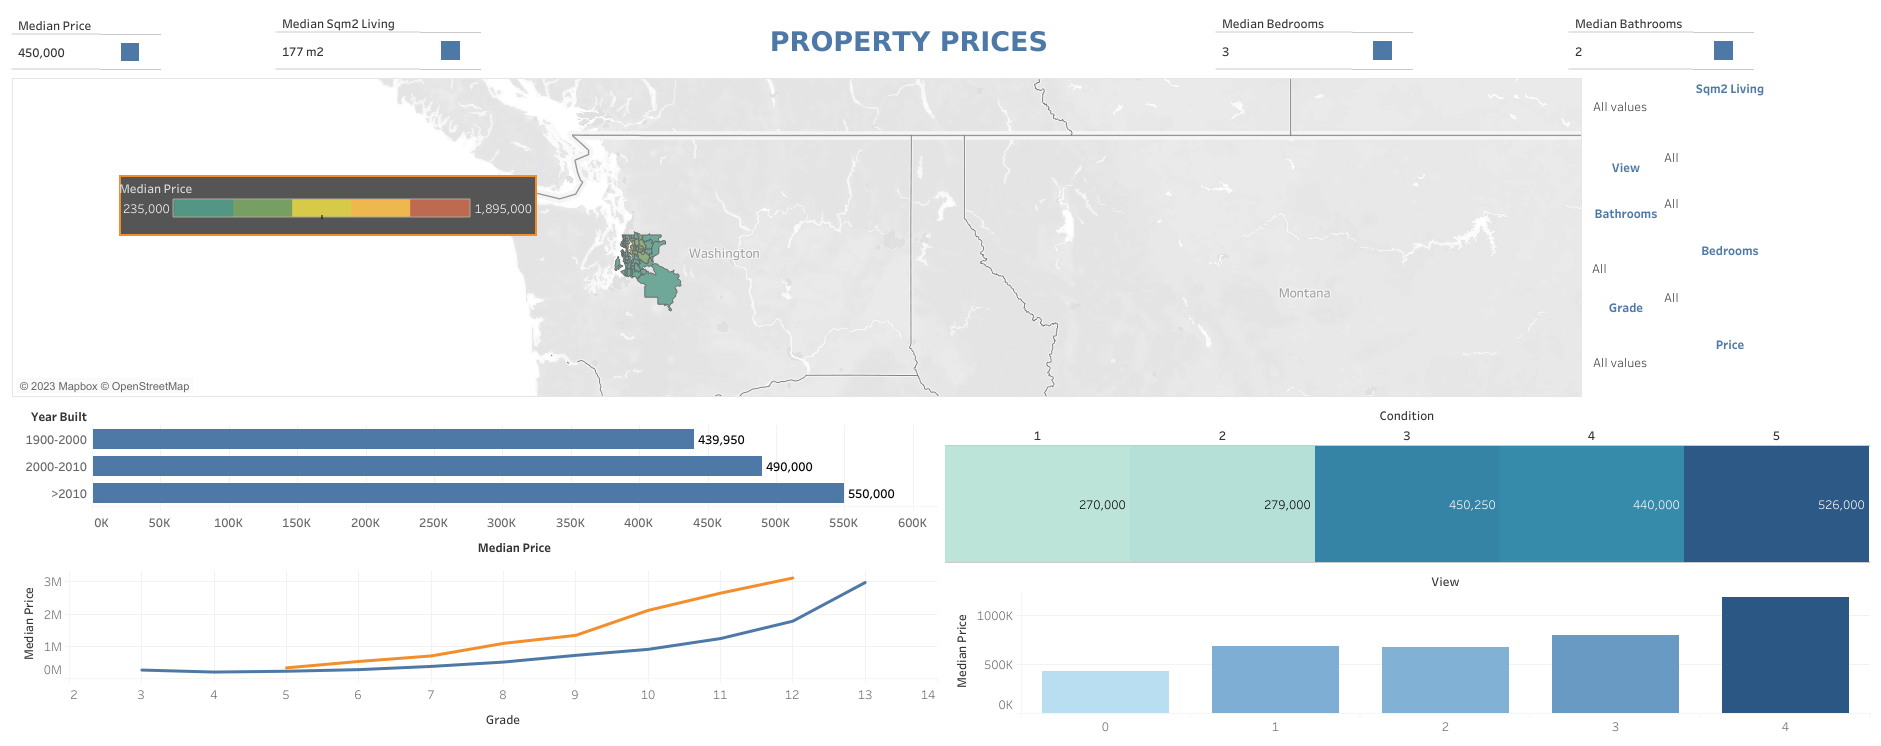

The page's visual inventory and layout, read from the dashboard file:
{"tool":"tableau","page":{"name":"Dashboard","canvas":[1000,1000],"units":"permille","ordinal":0},"visuals":[{"type":"worksheet","title":"M.price","mark":"Automatic","rows":["price"],"box":[6.5,11.8,139.4,88.1]},{"type":"worksheet","title":"M.Sqm2","mark":"Square","rows":["Calculation_1087760096447074305"],"box":[145.9,11.8,177,88.1]},{"type":"text","box":[322.9,11.8,320.6,88.1]},{"type":"worksheet","title":"M.Bed","mark":"Square","rows":["bedrooms"],"box":[643.5,11.8,186.3,88.1]},{"type":"worksheet","title":"M.bath","mark":"Square","rows":["Calculation_1087760096445595648"],"box":[829.8,11.8,163.7,88.1]},{"type":"worksheet","title":"Map","mark":"Automatic","box":[6.5,99.9,752.6,436.2]},{"type":"filter","title":"Map","param":"[federated.04hqfii03j3ed41djaeyn0ygce0e].[none:Calculation_1087760096447074305:q","box":[759.1,99.9,234.3,75.3]},{"type":"filter","title":"Map","param":"[federated.04hqfii03j3ed41djaeyn0ygce0e].[none:view:ok]","box":[759.1,175.3,234.3,68]},{"type":"legend","title":"Map","param":"[federated.04hqfii03j3ed41djaeyn0ygce0e].[med:price:qk]","box":[63.5,233.9,222.1,117]},{"type":"filter","title":"Map","param":"[federated.04hqfii03j3ed41djaeyn0ygce0e].[none:Calculation_1087760096445595648:o","box":[759.1,243.2,234.3,68]},{"type":"filter","title":"Map","param":"[federated.04hqfii03j3ed41djaeyn0ygce0e].[none:bedrooms:ok]","box":[759.1,311.2,234.3,70.9]},{"type":"filter","title":"Map","param":"[federated.04hqfii03j3ed41djaeyn0ygce0e].[none:grade:ok]","box":[759.1,382.1,234.3,68]},{"type":"filter","title":"Map","param":"[federated.04hqfii03j3ed41djaeyn0ygce0e].[none:price:qk]","box":[759.1,450,234.3,75.3]},{"type":"worksheet","title":"Yr_built_cat","mark":"Automatic","rows":["Calculation_466685559346532355"],"cols":["price"],"box":[6.5,536.1,493.4,222.5]},{"type":"worksheet","title":"condition","mark":"Square","cols":["condition"],"box":[499.9,536.1,493.6,222.5]},{"type":"worksheet","title":"GradeWaterfront","mark":"Automatic","rows":["price"],"cols":["grade"],"box":[6.5,758.6,493.4,229.6]},{"type":"worksheet","title":"View","mark":"Automatic","rows":["price"],"cols":["view"],"box":[499.9,758.6,493.6,229.6]}]}

Visuals, with their boxes on the dashboard's canvas, which has no fixed pixel size, in thousandths of its width and height (x1, y1, x2, y2). These are canvas units, not pixel positions in the 1881x746 screenshot, which may show the page scaled, cropped or inside an application window:
"M.price" worksheet: 6:12:146:100
"M.Sqm2" worksheet (Square marks): 146:12:323:100
text: 323:12:644:100
"M.Bed" worksheet (Square marks): 644:12:830:100
"M.bath" worksheet (Square marks): 830:12:994:100
"Map" worksheet: 6:100:759:536
"Map" filter: 759:100:993:175
"Map" filter: 759:175:993:243
"Map" legend: 64:234:286:351
"Map" filter: 759:243:993:311
"Map" filter: 759:311:993:382
"Map" filter: 759:382:993:450
"Map" filter: 759:450:993:525
"Yr_built_cat" worksheet: 6:536:500:759
"condition" worksheet (Square marks): 500:536:994:759
"GradeWaterfront" worksheet: 6:759:500:988
"View" worksheet: 500:759:994:988
